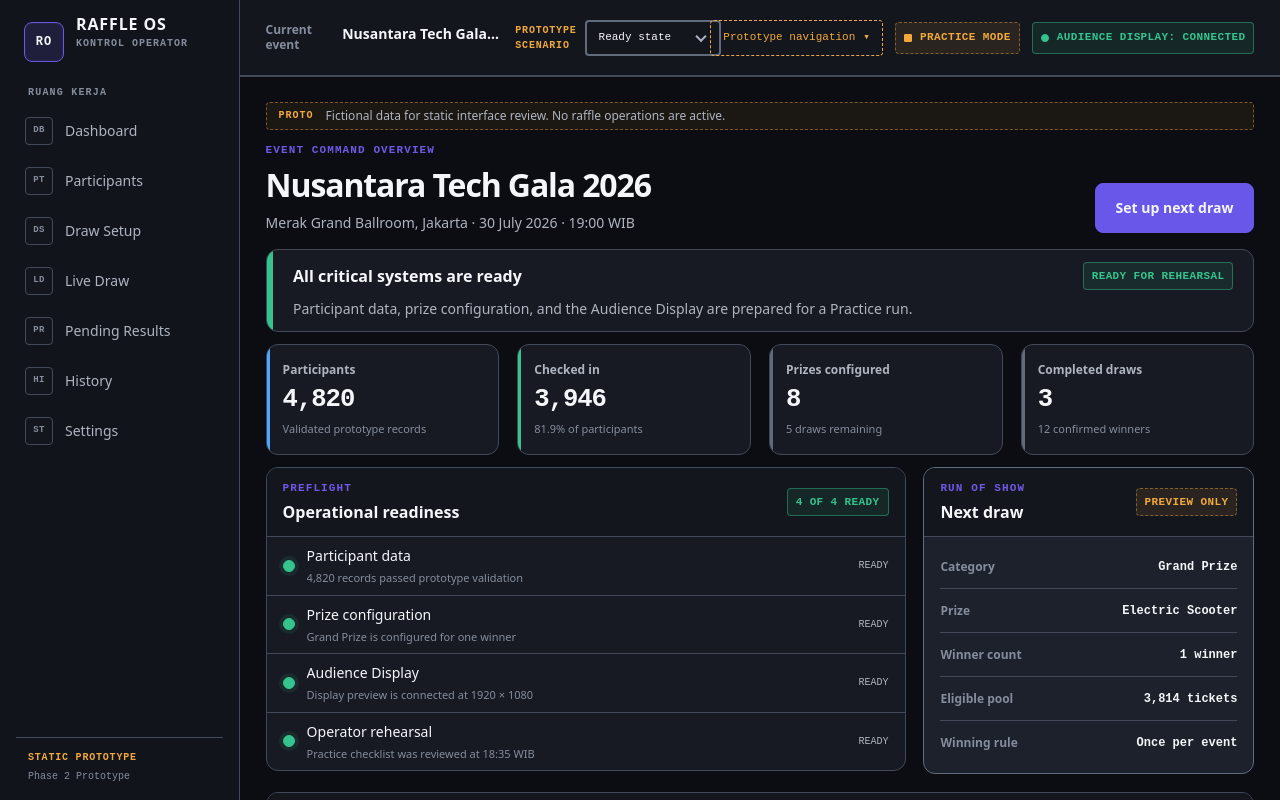
Dashboard static prototype › changes only the URL-selected prototype scenario
Select "Needs attention" in the dropdown labelled "Prototype scenario" at [652, 38], box [584,20,720,56]
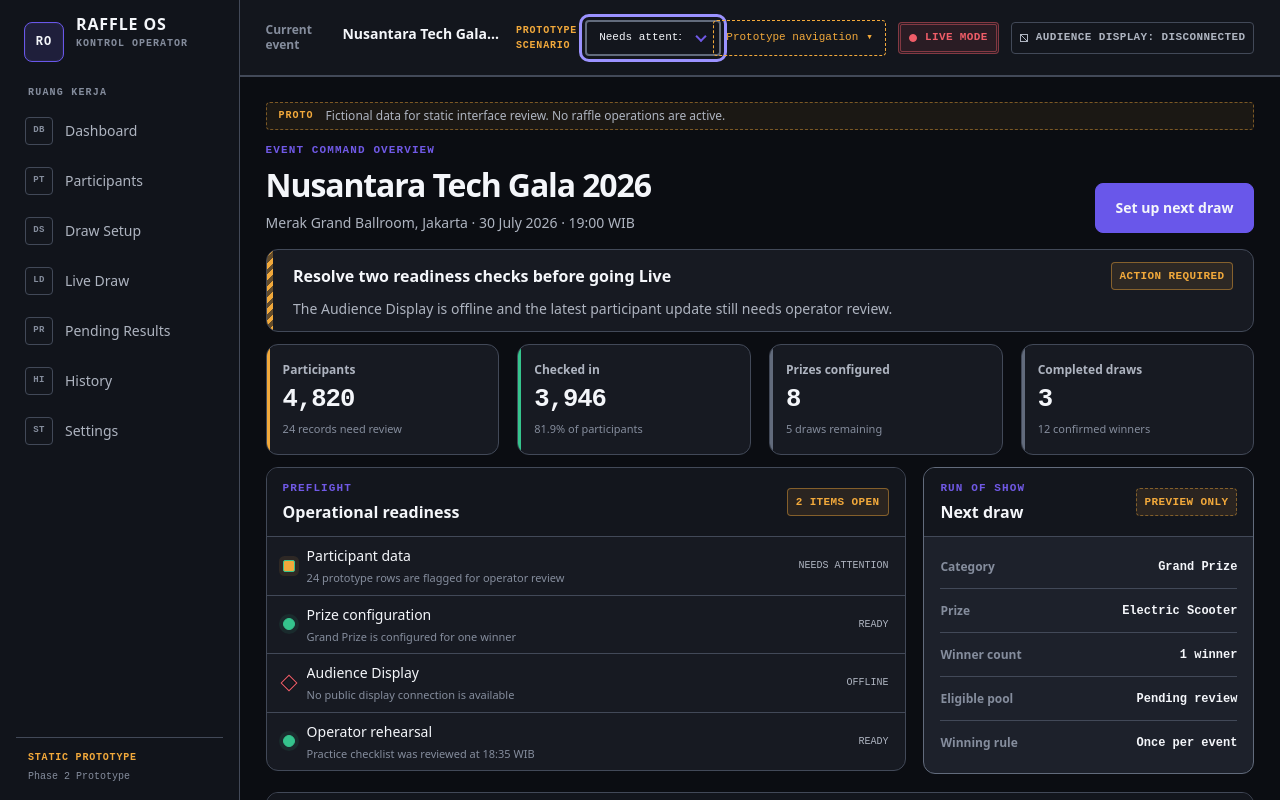
Check: the heading "Resolve two readiness checks before going Live" is shown, box [293,264,671,288]
